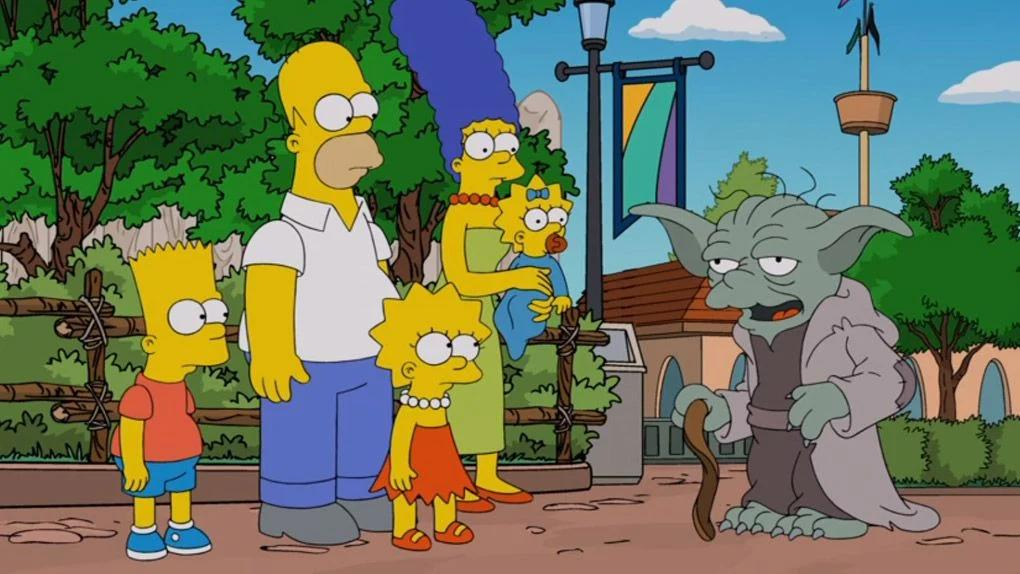Bart: (97, 236, 246, 565)
Homer: (230, 32, 405, 548)
Lisa: (350, 279, 505, 562)
Maggie: (492, 171, 607, 364)
Marge: (372, 0, 546, 520)
